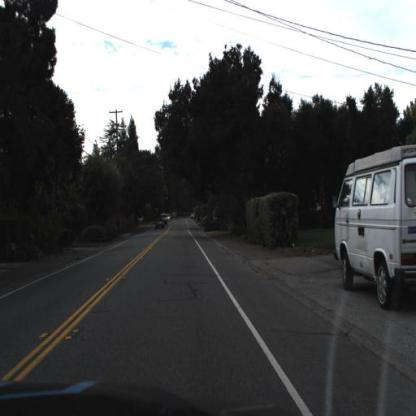car: (334, 146, 416, 310), (156, 218, 165, 229), (160, 214, 168, 225), (165, 214, 171, 222), (190, 213, 196, 219)
